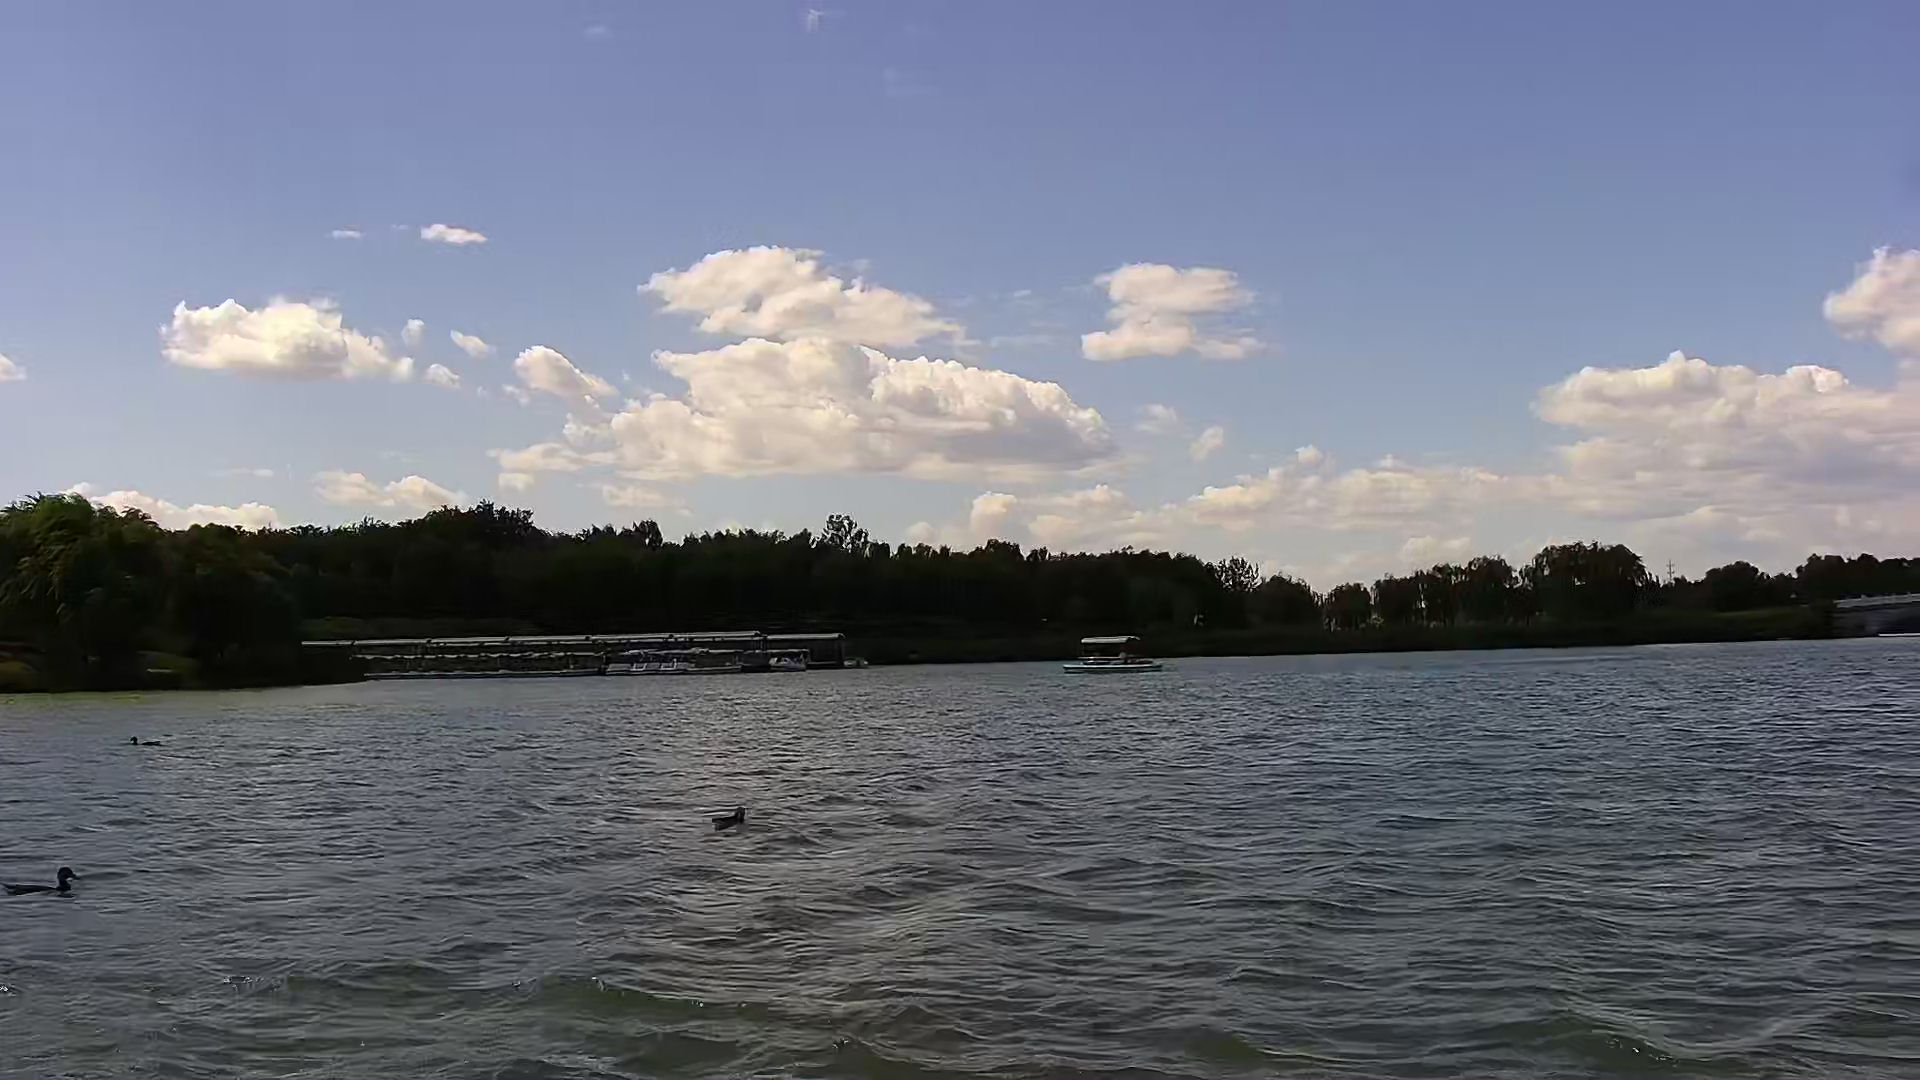animal: (4, 866, 75, 897), (708, 800, 749, 823)
boat: (1064, 634, 1160, 676)
harbor: (355, 636, 840, 674)
